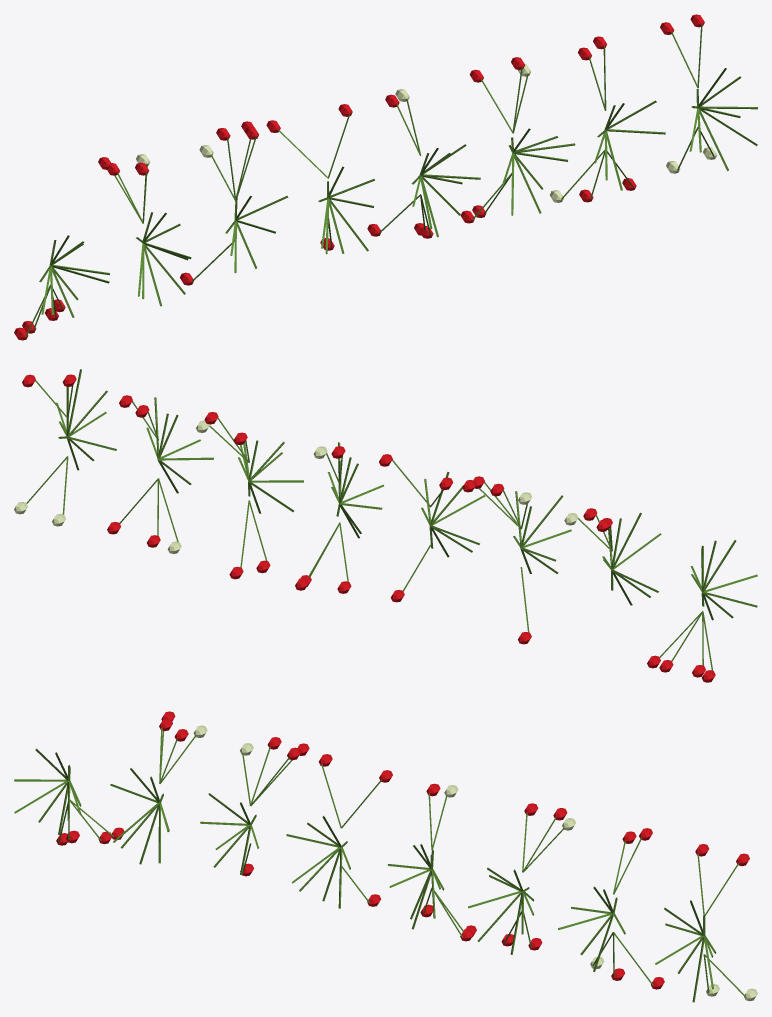
The model's file is r3c3_rest.obj.
The picture shows the model from 3 angles, top to bottom: view 1: azimuth 30°, elevation 25°; view 2: azimuth 150°, elevation 25°; view 3: azimuth 330°, elevation 25°; orthographic projection.
Visible parts, largest first — view 1: r3c3_rest; view 2: r3c3_rest; view 3: r3c3_rest.
Boxes of the visible parts, bbox=[...] form: r3c3_rest: bbox=[14, 14, 757, 340]; r3c3_rest: bbox=[14, 369, 757, 682]; r3c3_rest: bbox=[14, 711, 757, 1002].
Size of the model in its own units: 1.94 by 0.4027 by 0.2525.
